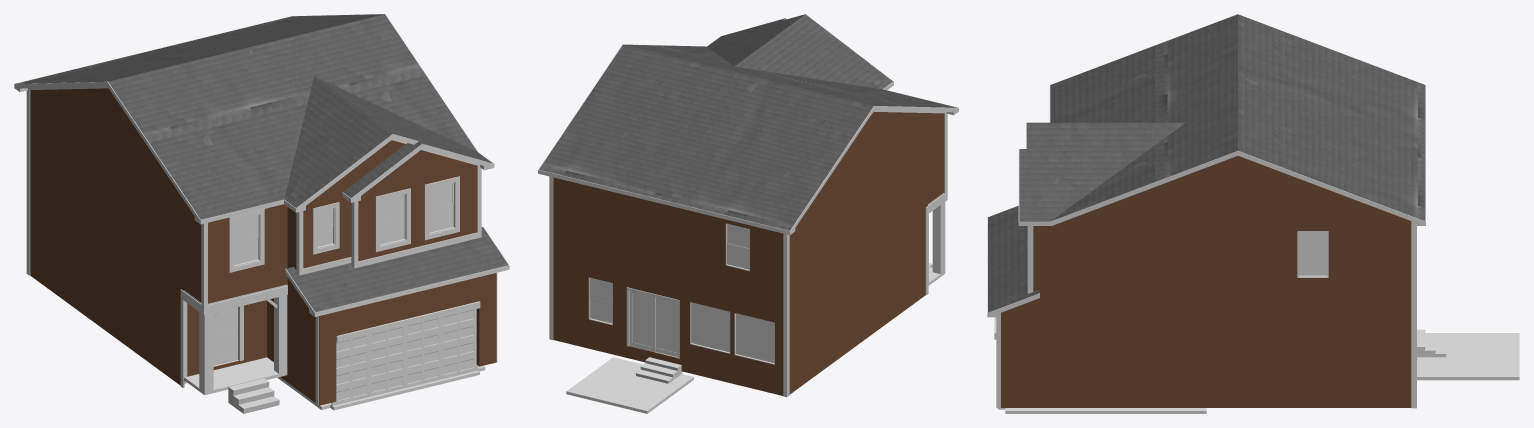
The model's file is 229-1664-dm-farmhouse.glb.
The picture shows the model from 3 angles, left to right: view 1: azimuth 30°, elevation 25°; view 2: azimuth 150°, elevation 25°; view 3: azimuth 270°, elevation 25°; orthographic projection. The views are drawn at different scales.
Parts seen in each view (by area): view 1: Basic Roof Wood Rafter 4" - Asphalt Shingle - Insulated_7c99, Basic Wall BSB Exterior - Stud_3.5" - Sheathing_0.5" - _3ff7, Basic Roof Wood Rafter 4" - Asphalt Shingle - Insulated_0061, Basic Wall BSB Exterior - Stud_3.5" - Sheathing_0.5" - _387b, Traditional - BSB Exterior - Overhead Garage Door - Clo_d00b, Basic Roof Wood Rafter 4" - Asphalt Shingle - Insulated_ade9, Basic Wall BSB Exterior - Stud_3.5" - Sheathing_0.5" - _528c, Basic Wall BSB Exterior - Stud_3.5" - Sheathing_0.5" - _9521, Basic Wall BSB Exterior - Stud_1.5" - Sheathing_0.5" - _8709, Basic Wall BSB Exterior - Stud_3.5" - Sheathing_0.5" - _2148, Basic Wall BSB Exterior - Stud_3.5" - Sheathing_0.5" - _3c46, Trim - Corner Boards1 Trim - Corner Boards [4384112] (+26 smaller); view 2: Basic Roof Wood Rafter 4" - Asphalt Shingle - Insulated_7c99, Basic Wall BSB Exterior - Stud_3.5" - Sheathing_0.5" - _85f1, Basic Wall BSB Exterior - Stud_3.5" - Sheathing_0.5" - _0910, Basic Wall BSB Exterior - Stud_3.5" - Sheathing_0.5" - _3ff7, Basic Wall BSB Exterior - Stud_3.5" - Sheathing_0.5" - _387b, Basic Roof Wood Rafter 4" - Asphalt Shingle - Insulated_0061, Basic Wall BSB Exterior - Stud_3.5" - Sheathing_0.5" - _9521, Basic Wall BSB Exterior - Stud_1.5" - Sheathing_0.5" - _8709, Floor BSB Concrete Slab - 4" - Slope Option [4273371], BSB Exterior - SGD XO - 1-Lite 6068 [4270529], Trim - Corner Boards1 Trim - Corner Boards [4384112], Fascia Fascia-Flat 1x6 w/12" Soffit Bd [4392281] (+8 smaller); view 3: Basic Roof Wood Rafter 4" - Asphalt Shingle - Insulated_7c99, Basic Wall BSB Exterior - Stud_3.5" - Sheathing_0.5" - _5a9d, Basic Wall BSB Exterior - Stud_3.5" - Sheathing_0.5" - _f2f4, Basic Wall BSB Exterior - Stud_3.5" - Sheathing_0.5" - _e848, Basic Wall BSB Exterior - Stud_3.5" - Sheathing_0.5" - _8b20, Basic Wall BSB Exterior - Stud_1.5" - Sheathing_0.5" - _fff4, Basic Roof Wood Rafter 4" - Asphalt Shingle - Insulated_0061, Basic Wall BSB Exterior - Stud_3.5" - Sheathing_0.5" - _4294, Floor BSB Concrete Slab - 4" - Slope Option [4273371], Basic Roof Wood Rafter 4" - Asphalt Shingle - Insulated_ade9, Basic Wall BSB Exterior - Stud_3.5" - Sheathing_0.5" - _b66e, Fascia Fascia-Flat 1x6 w/12" Soffit Bd [4392281] (+4 smaller).
Boxes of the visible parts, x1,y1,x2,y2 form: Basic Roof Wood Rafter 4" - Asphalt Shingle - Insulated_7c99: [15, 14, 477, 219]; Basic Wall BSB Exterior - Stud_3.5" - Sheathing_0.5" - _3ff7: [30, 90, 188, 292]; Basic Roof Wood Rafter 4" - Asphalt Shingle - Insulated_0061: [284, 76, 492, 207]; Basic Wall BSB Exterior - Stud_3.5" - Sheathing_0.5" - _387b: [30, 177, 122, 342]; Traditional - BSB Exterior - Overhead Garage Door - Clo_d00b: [331, 309, 478, 405]; Basic Roof Wood Rafter 4" - Asphalt Shingle - Insulated_ade9: [286, 227, 508, 312]; Basic Wall BSB Exterior - Stud_3.5" - Sheathing_0.5" - _528c: [323, 273, 496, 404]; Basic Wall BSB Exterior - Stud_3.5" - Sheathing_0.5" - _9521: [122, 245, 176, 382]; Basic Wall BSB Exterior - Stud_1.5" - Sheathing_0.5" - _8709: [30, 88, 186, 204]; Basic Wall BSB Exterior - Stud_3.5" - Sheathing_0.5" - _2148: [208, 204, 287, 303]; Basic Wall BSB Exterior - Stud_3.5" - Sheathing_0.5" - _3c46: [358, 166, 477, 261]; Trim - Corner Boards1 Trim - Corner Boards [4384112]: [26, 90, 497, 405]; Basic Roof Wood Rafter 4" - Asphalt Shingle - Insulated_7c99: [539, 44, 956, 230]; Basic Wall BSB Exterior - Stud_3.5" - Sheathing_0.5" - _85f1: [553, 177, 783, 306]; Basic Wall BSB Exterior - Stud_3.5" - Sheathing_0.5" - _0910: [572, 255, 783, 395]; Basic Wall BSB Exterior - Stud_3.5" - Sheathing_0.5" - _3ff7: [789, 123, 931, 305]; Basic Wall BSB Exterior - Stud_3.5" - Sheathing_0.5" - _387b: [789, 245, 872, 394]; Basic Roof Wood Rafter 4" - Asphalt Shingle - Insulated_0061: [707, 14, 892, 89]; Basic Wall BSB Exterior - Stud_3.5" - Sheathing_0.5" - _9521: [872, 209, 921, 333]; Basic Wall BSB Exterior - Stud_1.5" - Sheathing_0.5" - _8709: [803, 111, 943, 216]; Floor BSB Concrete Slab - 4" - Slope Option [4273371]: [566, 357, 693, 413]; BSB Exterior - SGD XO - 1-Lite 6068 [4270529]: [626, 287, 679, 358]; Trim - Corner Boards1 Trim - Corner Boards [4384112]: [549, 113, 947, 397]; Fascia Fascia-Flat 1x6 w/12" Soffit Bd [4392281]: [538, 14, 957, 234]; Basic Roof Wood Rafter 4" - Asphalt Shingle - Insulated_7c99: [1050, 14, 1425, 221]; Basic Wall BSB Exterior - Stud_3.5" - Sheathing_0.5" - _5a9d: [1212, 308, 1411, 407]; Basic Wall BSB Exterior - Stud_3.5" - Sheathing_0.5" - _f2f4: [1212, 220, 1411, 308]; Basic Wall BSB Exterior - Stud_3.5" - Sheathing_0.5" - _e848: [1068, 220, 1211, 308]; Basic Wall BSB Exterior - Stud_3.5" - Sheathing_0.5" - _8b20: [1097, 308, 1213, 407]; Basic Wall BSB Exterior - Stud_1.5" - Sheathing_0.5" - _fff4: [1066, 156, 1409, 220]; Basic Roof Wood Rafter 4" - Asphalt Shingle - Insulated_0061: [1019, 122, 1185, 221]; Basic Wall BSB Exterior - Stud_3.5" - Sheathing_0.5" - _4294: [1002, 308, 1097, 407]; Floor BSB Concrete Slab - 4" - Slope Option [4273371]: [1417, 333, 1519, 380]; Basic Roof Wood Rafter 4" - Asphalt Shingle - Insulated_ade9: [988, 206, 1039, 312]; Basic Wall BSB Exterior - Stud_3.5" - Sheathing_0.5" - _b66e: [1029, 220, 1068, 308]; Fascia Fascia-Flat 1x6 w/12" Soffit Bd [4392281]: [1018, 14, 1425, 225].
Bounding box in the file's own units: 9.49 × 8.74 × 15.58.
Materials: 2 (1 with a texture image).
